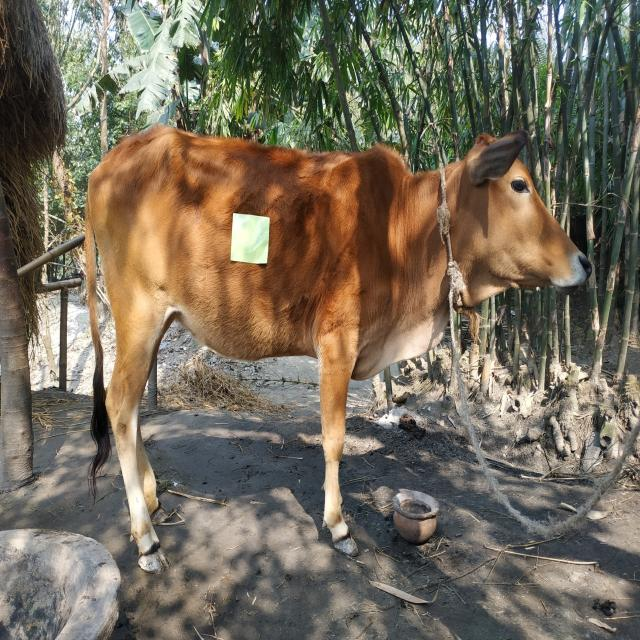badan_sapi: (102, 149, 361, 360)
sapi: (67, 114, 596, 582)
